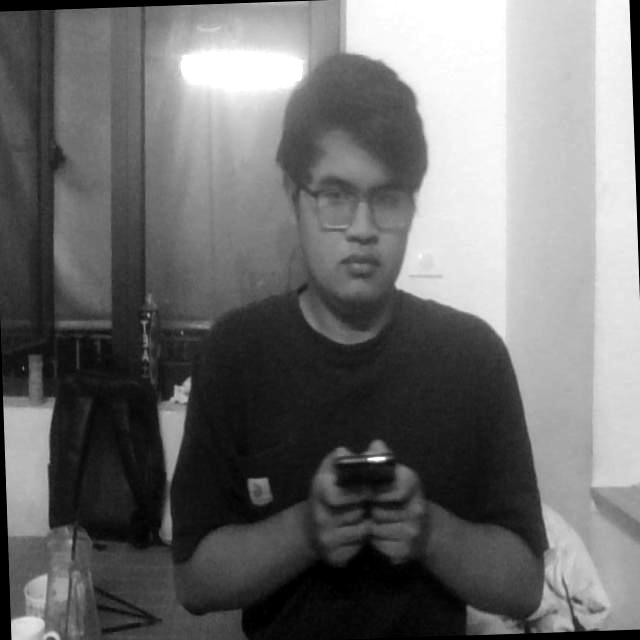phone: (322, 424, 406, 520)
